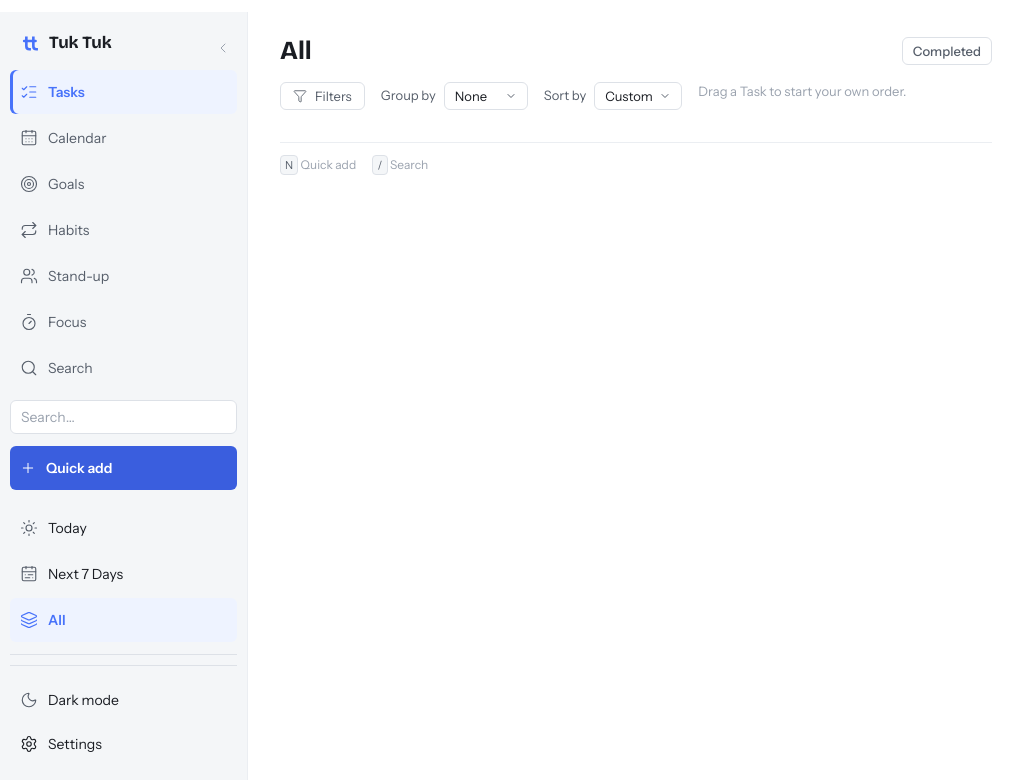
Test: Google Calendar gate › lists every connected account by its email address
The image size is (1024, 780).
Click the link "Settings". click: (61, 744)
box: 20,734 -> 102,753
(page scrolled)
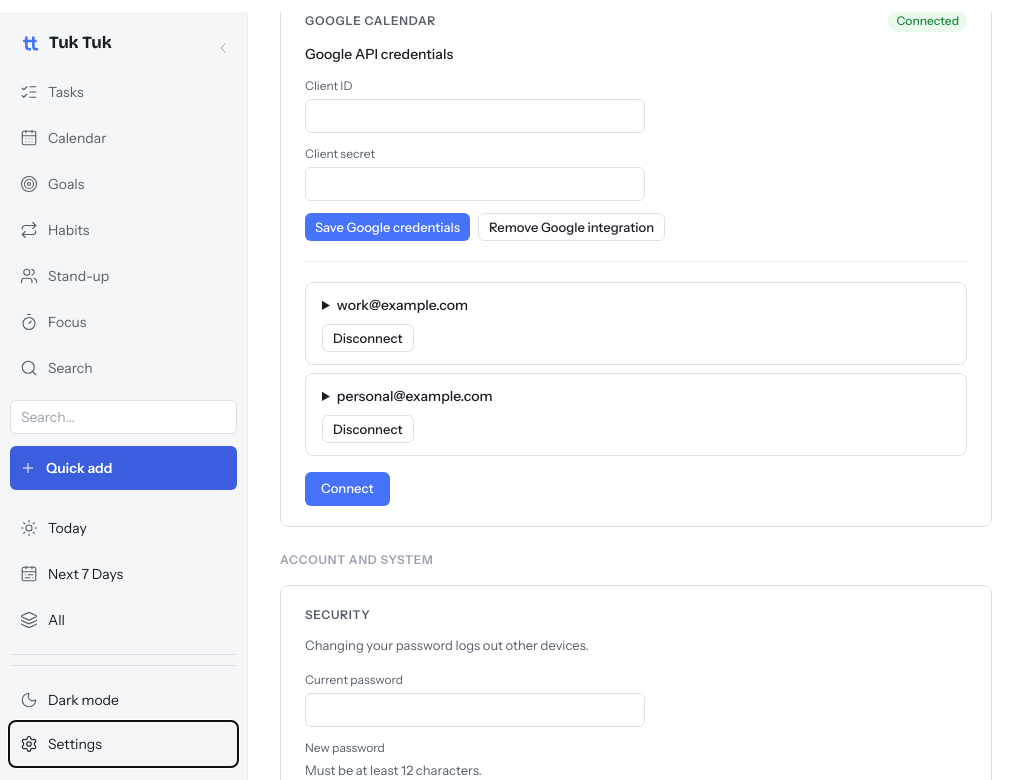
Result: the heading "work@example.com" is shown at 322,295 -> 468,316
Result: the heading "personal@example.com" is shown at 322,386 -> 492,407
